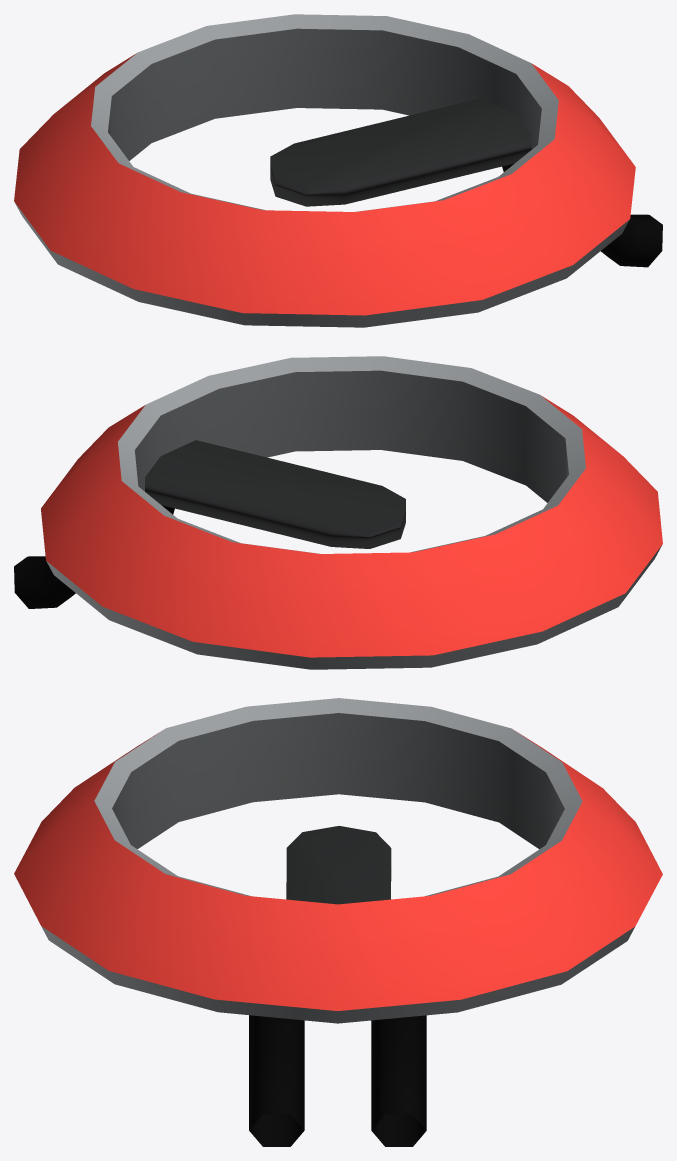
The model's file is Drone_015_wing_002.fbx.
3 renders of one model, top to bottom at view 1: azimuth 30°, elevation 25°; view 2: azimuth 150°, elevation 25°; view 3: azimuth 270°, elevation 25°, orthographic. The views are drawn at different scales.
Parts seen in each view (by area): view 1: Drone_015_wing_002; view 2: Drone_015_wing_002; view 3: Drone_015_wing_002.
Part boxes in pixels (x1,y1,x2,y2): Drone_015_wing_002: (14,14,662,327); Drone_015_wing_002: (14,356,662,669); Drone_015_wing_002: (14,698,662,1146).
Bounding box in the file's own units: 50.19 × 47.79 × 16.44.
